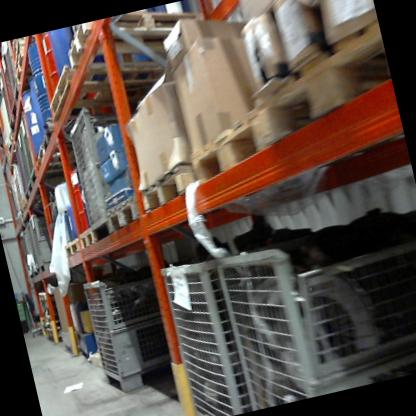pallet: (245, 21, 398, 150), (64, 0, 233, 90), (42, 43, 185, 131), (183, 88, 282, 190), (130, 151, 199, 225), (105, 187, 151, 243), (36, 113, 82, 158), (32, 131, 84, 170), (13, 49, 42, 87), (56, 234, 84, 266), (77, 224, 97, 253)
stillage: (207, 194, 416, 409), (147, 241, 252, 416), (77, 265, 184, 410), (61, 96, 158, 255), (14, 103, 84, 185), (27, 208, 65, 273), (2, 40, 30, 103), (0, 50, 22, 125), (11, 134, 30, 202), (0, 66, 18, 135), (14, 131, 34, 192), (23, 219, 44, 275), (9, 161, 28, 213), (22, 226, 38, 276), (18, 233, 33, 279)
